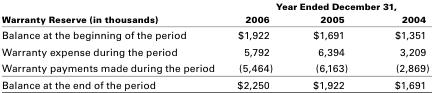table: (0, 0, 428, 90)
table column: (0, 0, 225, 90), (292, 0, 370, 90), (225, 0, 292, 90), (370, 0, 428, 90)
table column header: (0, 0, 428, 26)
table row: (0, 26, 428, 43), (0, 43, 428, 59), (0, 59, 428, 75), (0, 75, 428, 90), (0, 12, 428, 26), (0, 0, 428, 12)
table spanning cell: (0, 0, 225, 26), (225, 0, 428, 12)
